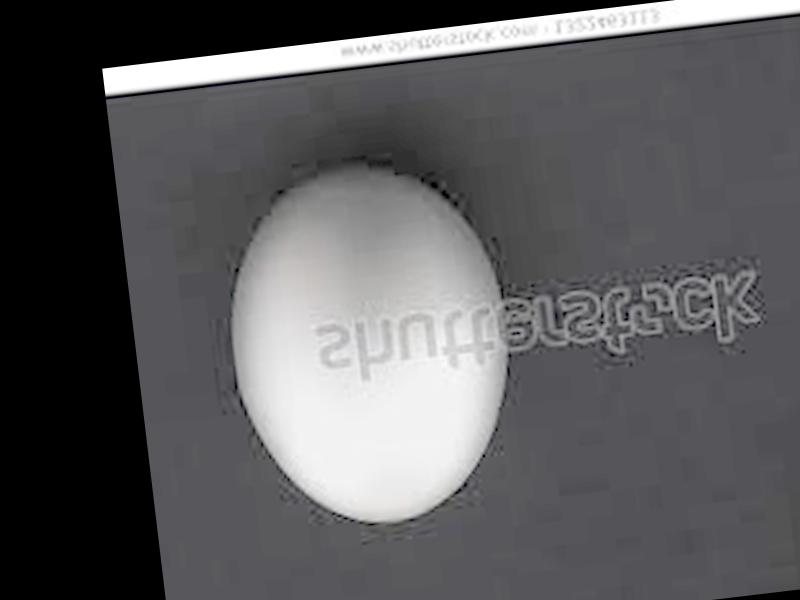Eggs: (212, 156, 520, 541)
